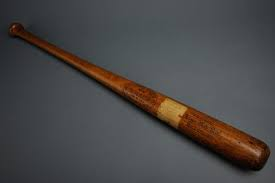baseball bat: (7, 20, 270, 171)
